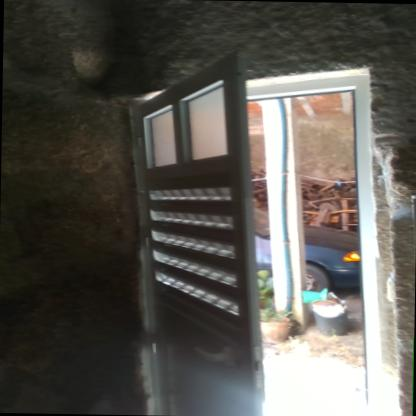semi: (116, 41, 387, 416)
